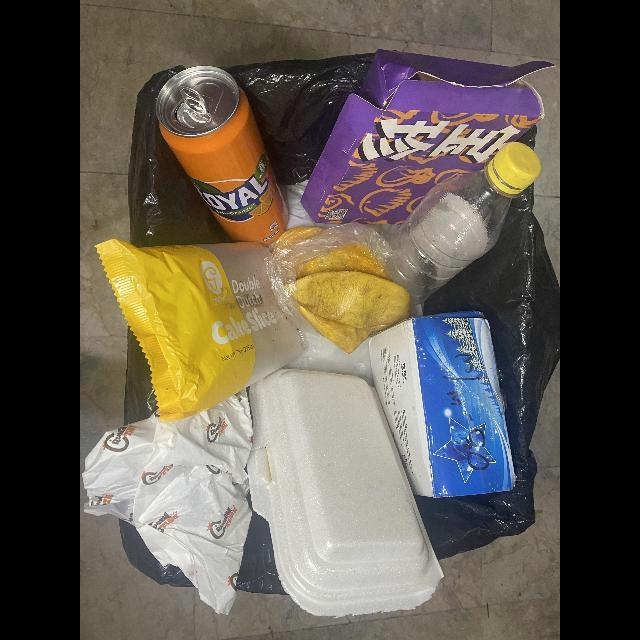aluminum: (155, 66, 289, 245)
cardboard: (300, 50, 553, 225), (369, 311, 516, 499)
food_wrapper: (96, 239, 303, 423)
paper: (82, 388, 254, 616)
plastic_bottle: (385, 142, 542, 306)
